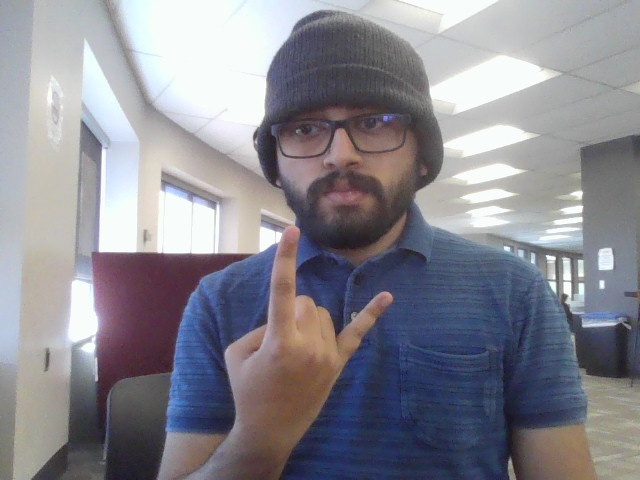help: (218, 216, 398, 436)
